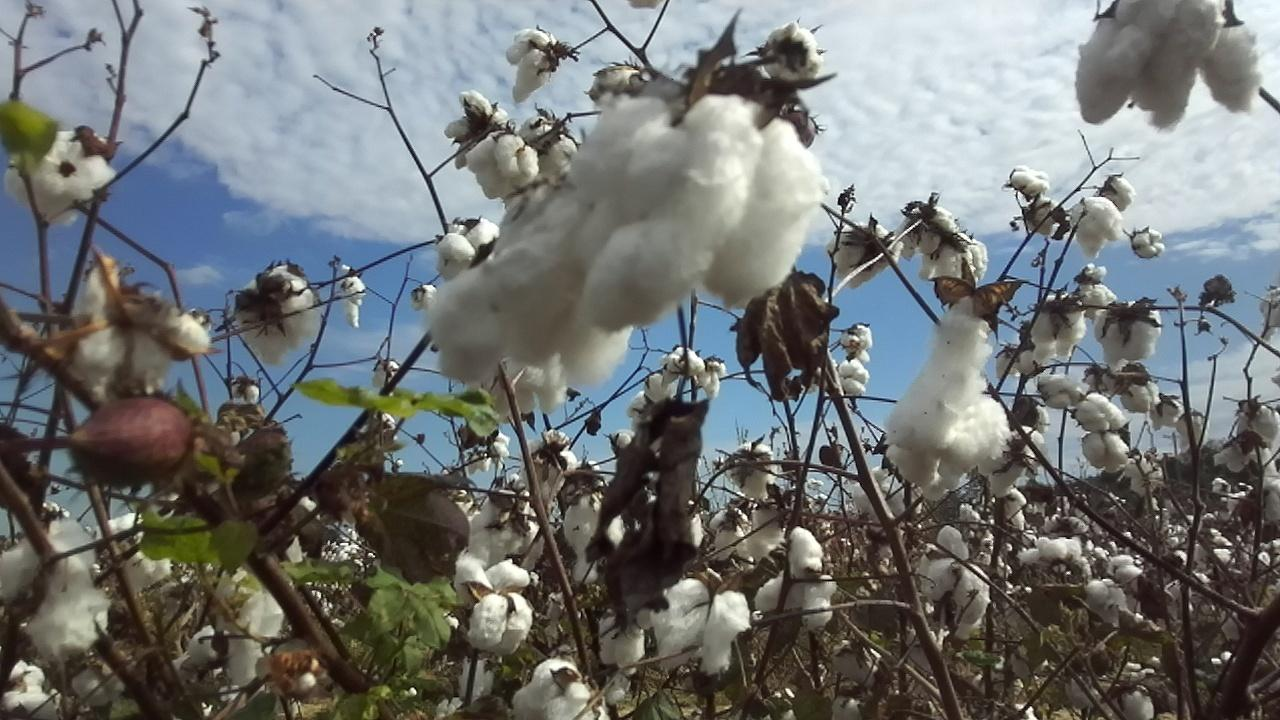cotton_ready: (567, 94, 825, 334), (425, 183, 633, 390), (1074, 0, 1265, 130), (882, 292, 1005, 481), (72, 266, 209, 390), (0, 519, 112, 657), (5, 127, 115, 230), (650, 579, 757, 674), (453, 553, 544, 654), (232, 266, 320, 369), (756, 533, 837, 629), (508, 657, 609, 720), (461, 484, 532, 563), (465, 129, 539, 202), (444, 92, 513, 167), (921, 557, 990, 629), (1098, 303, 1169, 370), (832, 223, 900, 292), (507, 25, 559, 106), (435, 215, 499, 279), (767, 22, 824, 84), (525, 122, 581, 185), (1029, 302, 1090, 359), (916, 239, 992, 284), (1069, 198, 1122, 259), (899, 204, 962, 254), (589, 65, 650, 110), (729, 443, 775, 500)
